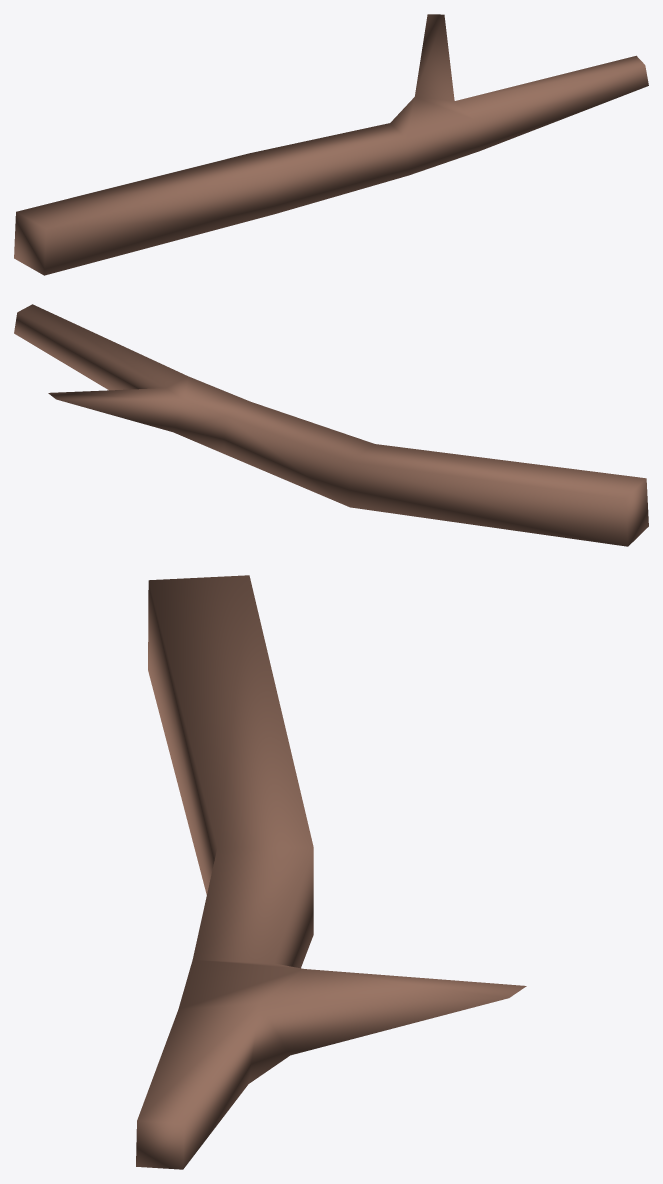
File: Stick_LightBrown_2.fbx
The picture shows the model from 3 angles, top to bottom: view 1: azimuth 30°, elevation 25°; view 2: azimuth 150°, elevation 25°; view 3: azimuth 270°, elevation 25°; orthographic projection. The views are drawn at different scales.
Visible parts, largest first — view 1: Stick_LightBrown_2; view 2: Stick_LightBrown_2; view 3: Stick_LightBrown_2.
Part boxes in pixels (box(x1,y1,x2,y2)): Stick_LightBrown_2: box(14, 14, 648, 275); Stick_LightBrown_2: box(14, 304, 648, 546); Stick_LightBrown_2: box(136, 575, 526, 1169).
Size of the model in its own units: 181 by 24.72 by 50.3.
